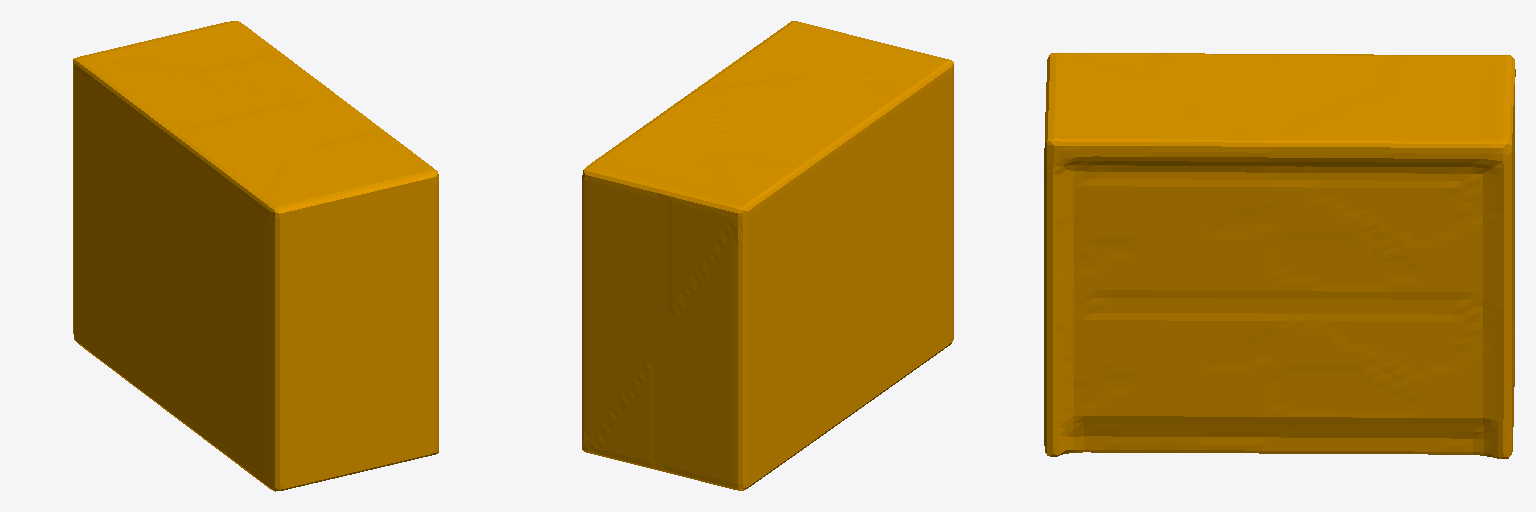
The robot description file, URDF, robot "03337140_2f449bf1b7eade5772594f16694be05_object":
<robot name="03337140_2f449bf1b7eade5772594f16694be05_object">
	<link name="_name">
		<visual>
			<origin xyz="2.941643761092815 -2.21709336383107 0.9342395576633518" rpy="0.0 0.0 0.0" />
			<geometry>
				<mesh filename="03337140_2f449bf1b7eade5772594f16694be05_object_0.obj" />
			</geometry>
		</visual>
		<collision>
			<origin rpy="0.0 0.0 0.0" xyz="2.941643761092815 -2.21709336383107 0.9342395576633518" />
			<geometry>
				<mesh filename="03337140_2f449bf1b7eade5772594f16694be05_object_vhacd.obj" />
			</geometry>
		</collision>
		<inertial>
			<origin rpy="0 0 0" xyz="0 0 0" />
			<mass value="1.0" />
			<inertia ixx="0.001" ixy="0.0" ixz="0.0" iyy="0.001" iyz="0.0" izz="0.001" />
		</inertial>
	</link>
</robot>

--- What the picture shows (computed from the rendered views, not written in the file) ---
The picture shows the robot from 3 angles, left to right: view 1: azimuth 30°, elevation 25°; view 2: azimuth 150°, elevation 25°; view 3: azimuth 270°, elevation 25°; orthographic projection.
Robot: 03337140_2f449bf1b7eade5772594f16694be05_object — 1 links, 0 joints (none); root link _name; default pose: every joint at zero.
Visible links, largest first — view 1: _name; view 2: _name; view 3: _name.
Boxes of the visible links, x1,y1,x2,y2 form: _name: (73, 21, 438, 491); _name: (582, 21, 953, 490); _name: (1044, 53, 1515, 458).
Size in the robot's own frame: 0.4529 by 0.9671 by 0.7189 metres.
1 mesh visuals loaded from 1 distinct referenced files (1 OBJ).
